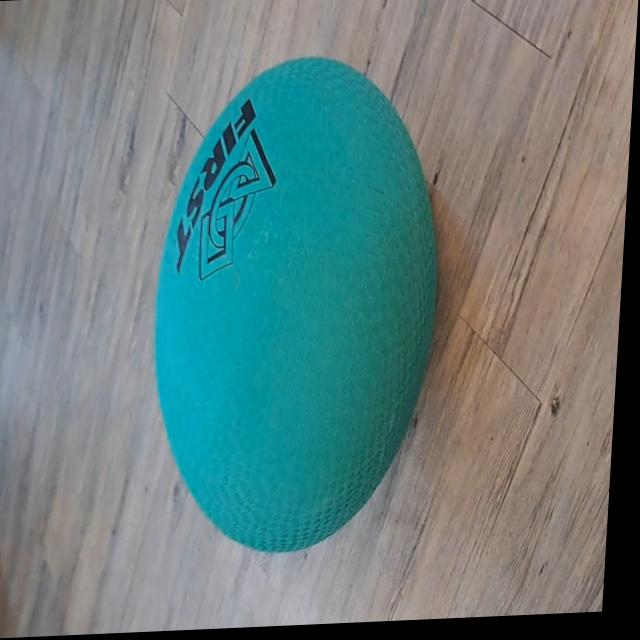ALGAE: (138, 48, 453, 561)
